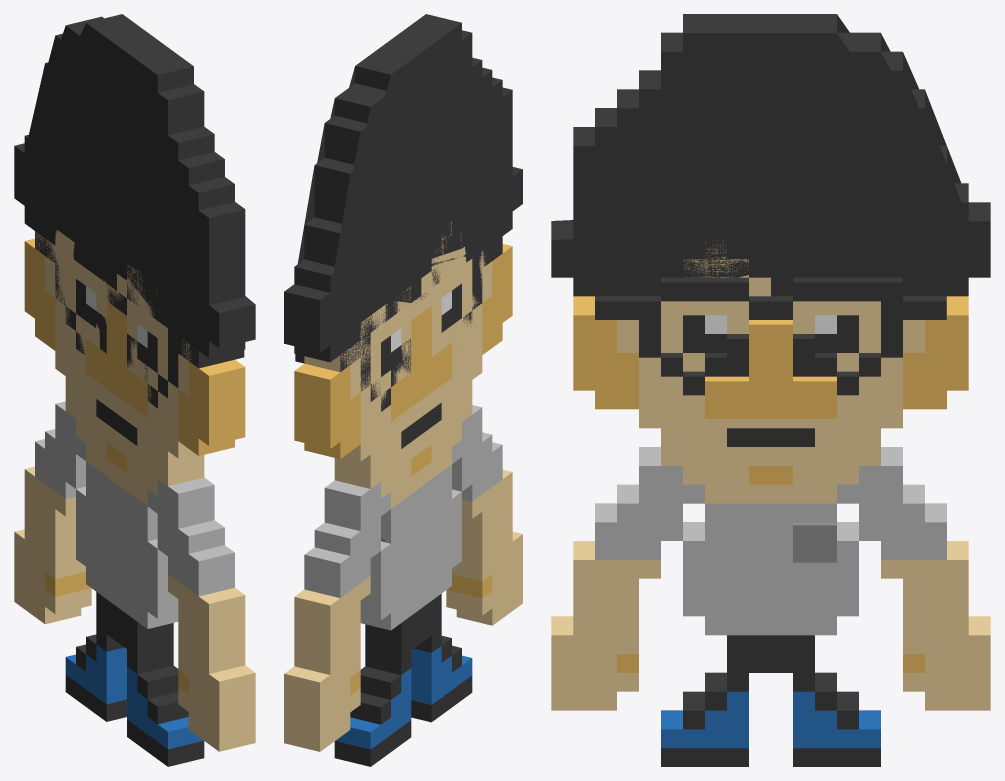
The model's file is charactor.obj.
3 renders of one model, left to right at view 1: azimuth 30°, elevation 25°; view 2: azimuth 150°, elevation 25°; view 3: azimuth 270°, elevation 25°, orthographic. The views are drawn at different scales.
Parts seen in each view (by area): view 1: hirai.1; view 2: hirai.1; view 3: hirai.1.
Boxes of the visible parts, x1,y1,x2,y2 form: hirai.1: (14, 14, 255, 766); hirai.1: (284, 14, 522, 766); hirai.1: (551, 14, 990, 766).
Bounding box in the file's own units: 30 × 360 × 196.
